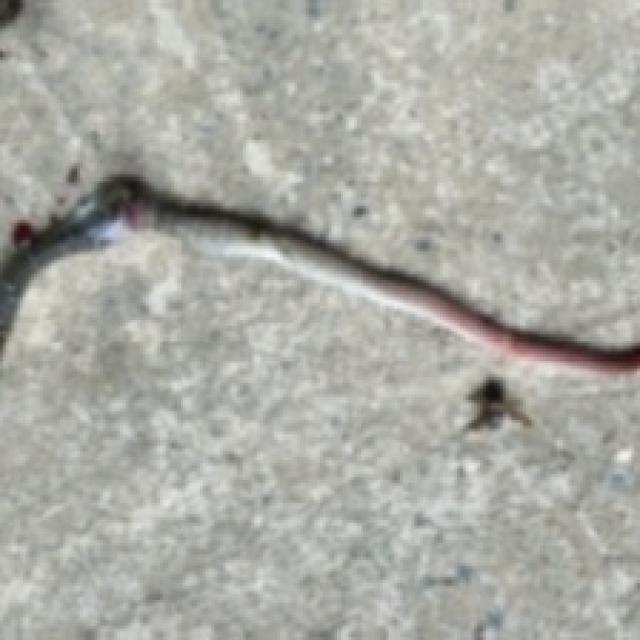reddish rat snake: (0, 174, 637, 371)
